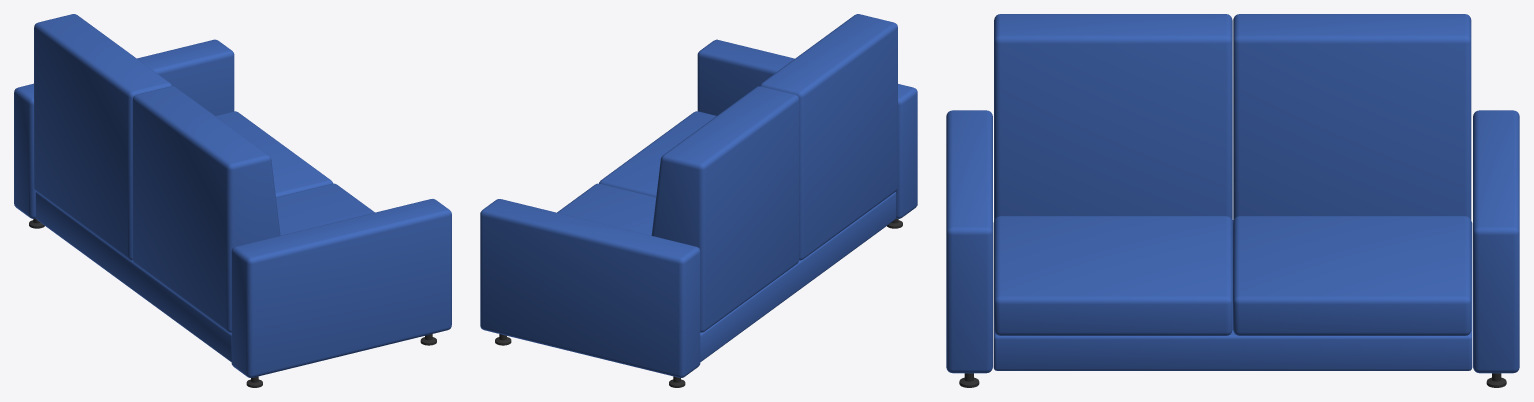
The model's file is Sofa2.fbx.
3 views of the same model, side by side, from view 1: azimuth 30°, elevation 25°; view 2: azimuth 150°, elevation 25°; view 3: azimuth 270°, elevation 25° (orthographic). The views are drawn at different scales.
Visible parts, largest first — view 1: Sofa2; view 2: Sofa2; view 3: Sofa2.
Boxes of the visible parts, box(x1,y1,x2,y2) form: Sofa2: box(14, 14, 451, 387); Sofa2: box(480, 14, 917, 387); Sofa2: box(946, 14, 1519, 387).
Bounding box in the file's own units: 400 × 200 × 200.
